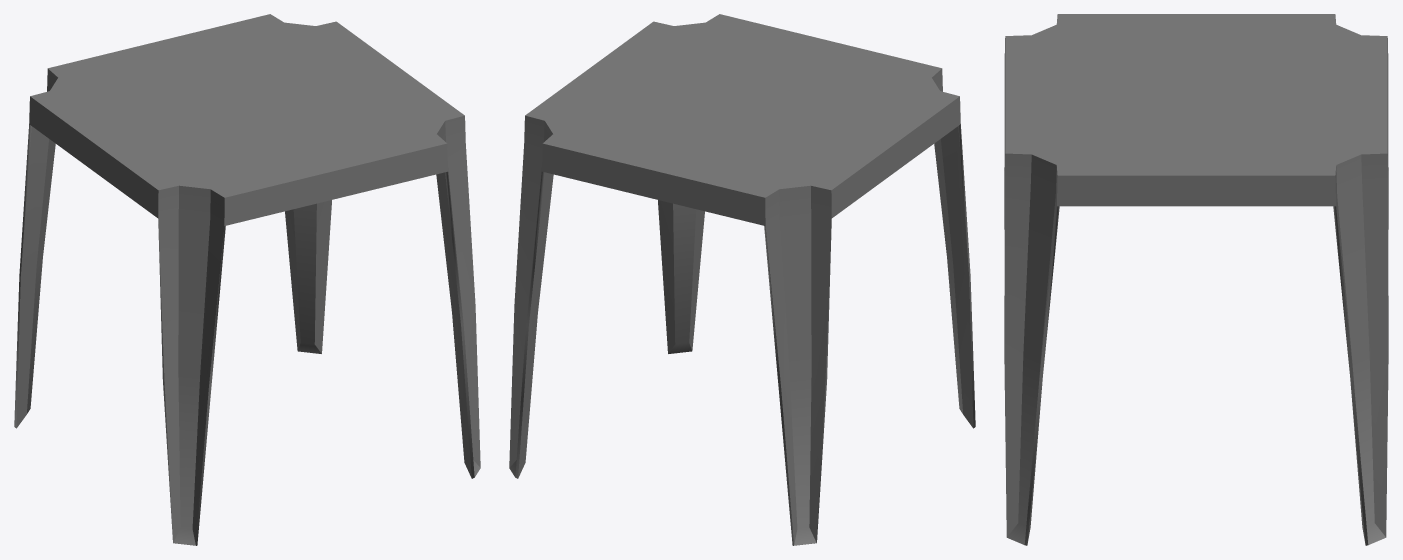
Rendered from PROP_mesa.glb.
The picture shows the model from 3 angles, left to right: view 1: azimuth 30°, elevation 25°; view 2: azimuth 150°, elevation 25°; view 3: azimuth 270°, elevation 25°; orthographic projection. The views are drawn at different scales.
Visible parts, largest first — view 1: mesa_de_bar.002; view 2: mesa_de_bar.002; view 3: mesa_de_bar.002.
Boxes of the visible parts, bbox=[...] form: mesa_de_bar.002: bbox=[14, 14, 480, 545]; mesa_de_bar.002: bbox=[509, 14, 975, 545]; mesa_de_bar.002: bbox=[1004, 14, 1388, 545].
Size of the model in its own units: 0.7111 by 0.7482 by 0.7027.
1 material, 1 textured.
